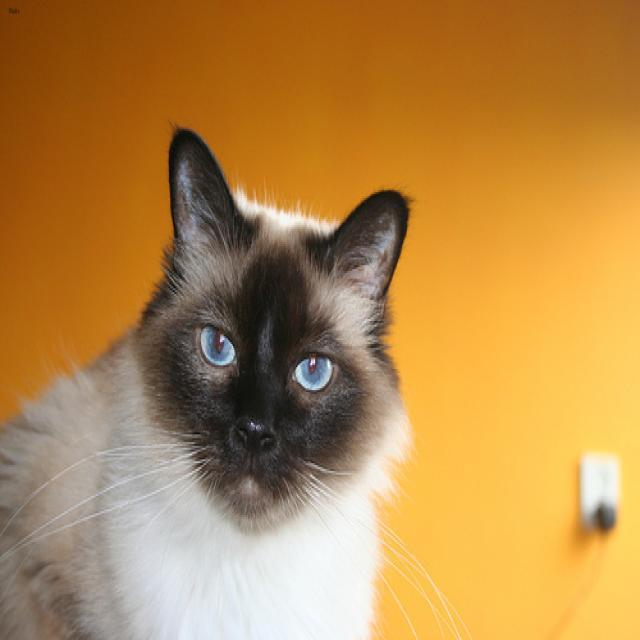Birman: (143, 122, 417, 535)
